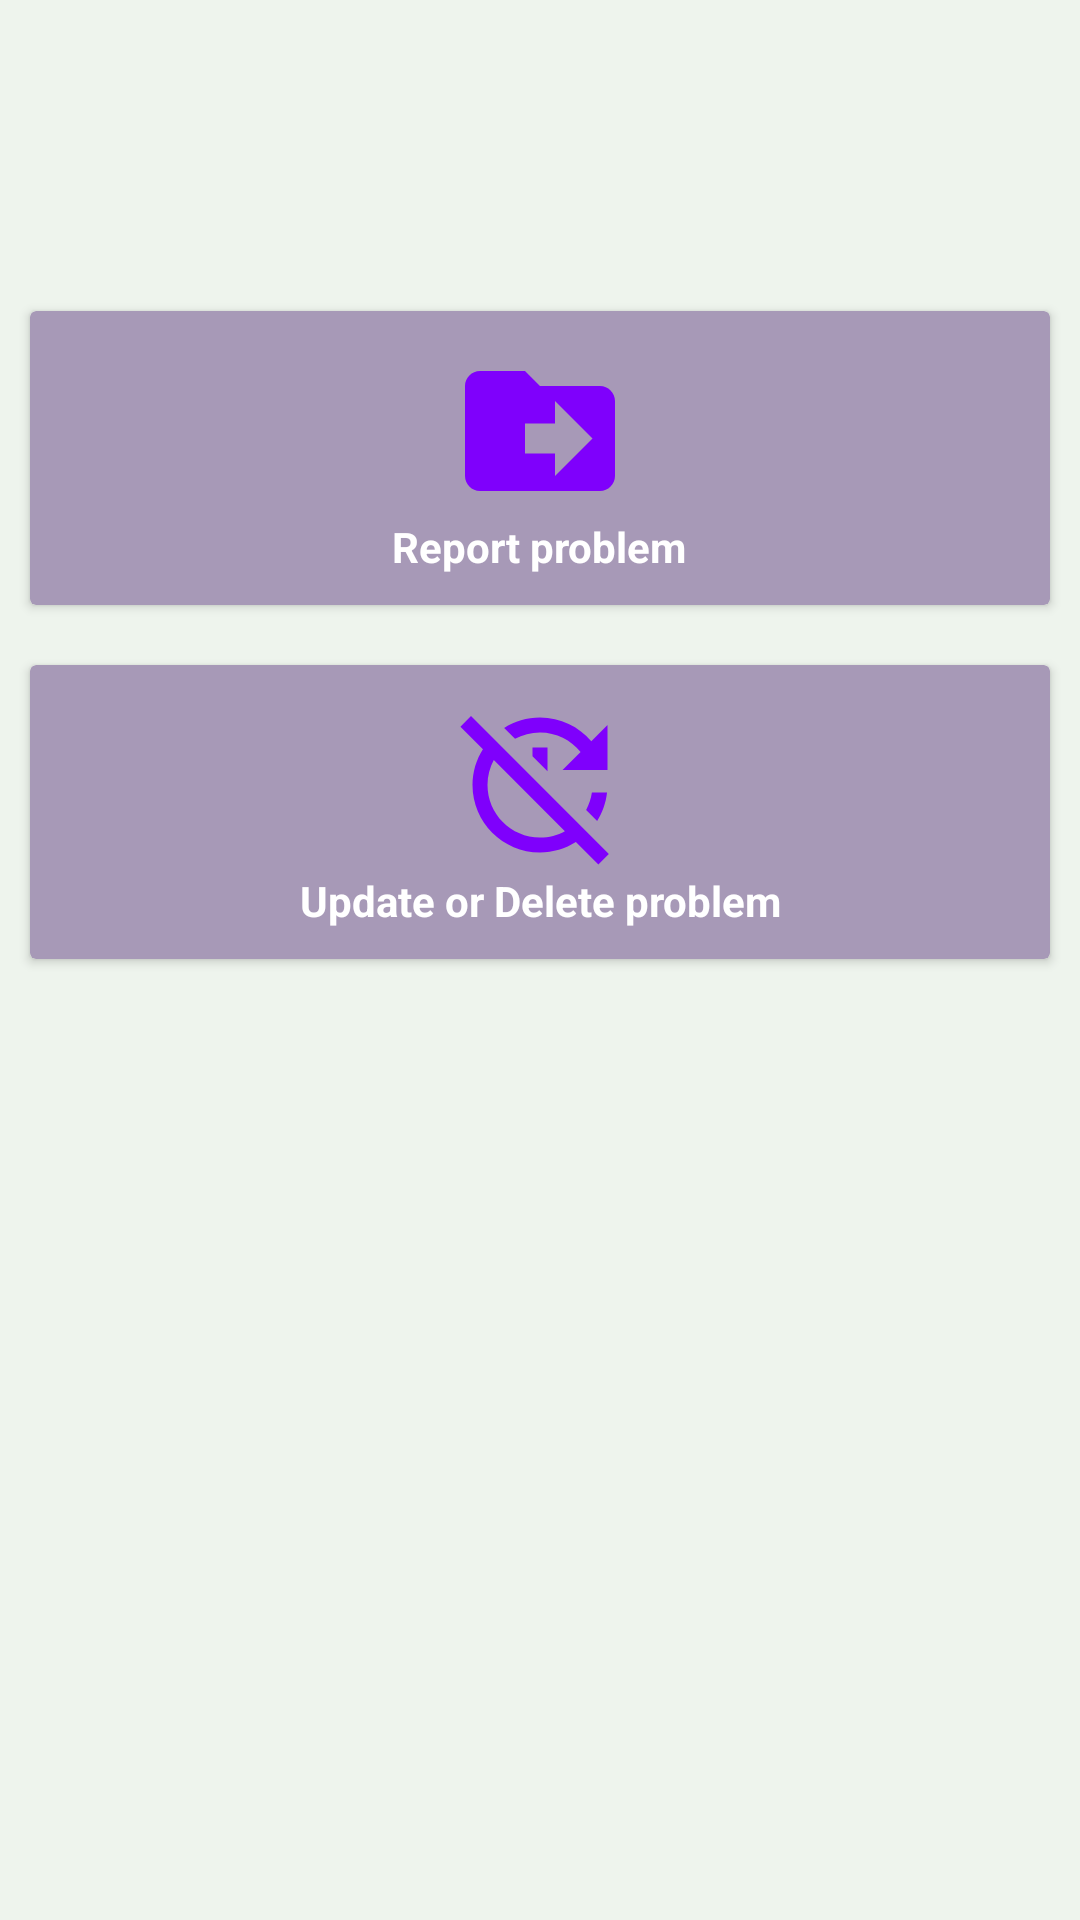

Icon click points for this 1080x1920 phone screenshot, format point (x, y):
file: point (540, 431)
